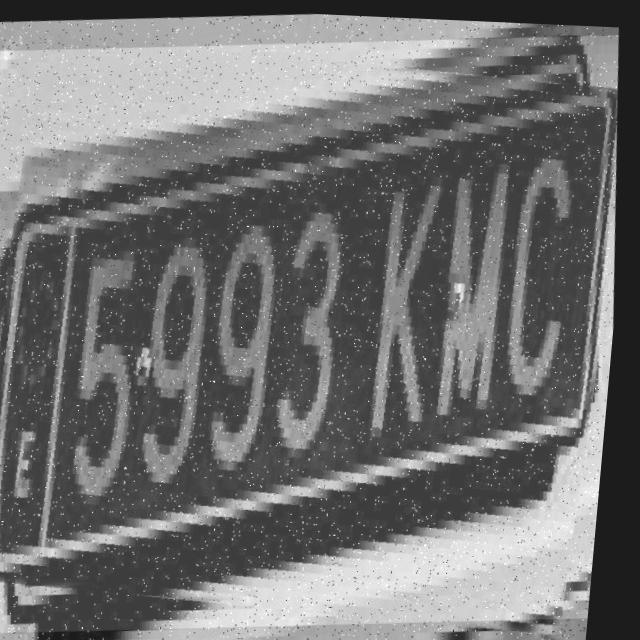LicensePlate: (0, 7, 640, 640)
